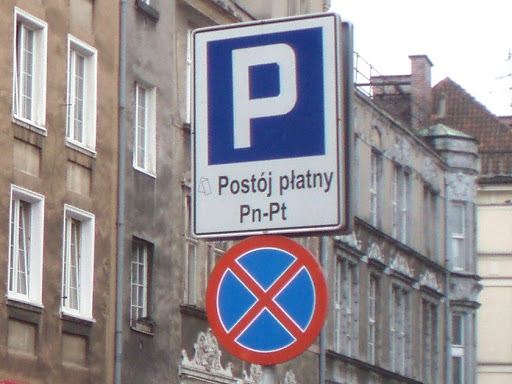no_stopping_sign: (206, 236, 327, 366)
